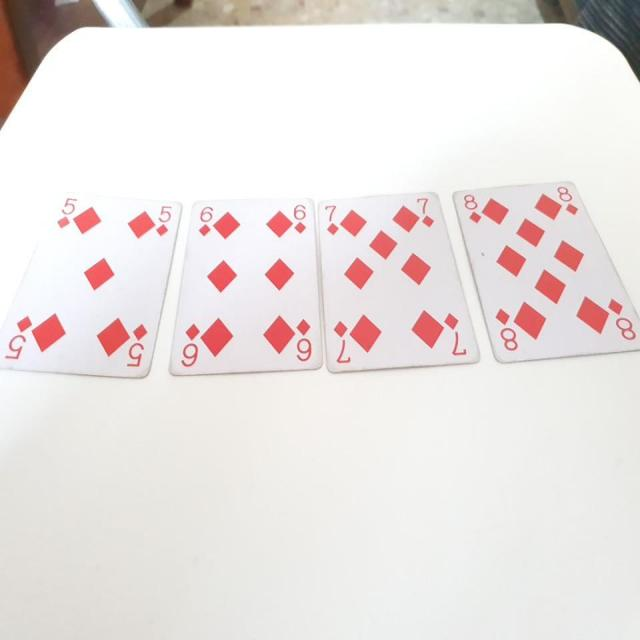5 Diamonds: (1, 188, 184, 378)
6 Diamonds: (165, 193, 324, 374)
7 Diamonds: (316, 192, 482, 375)
8 Diamonds: (451, 180, 640, 364)
